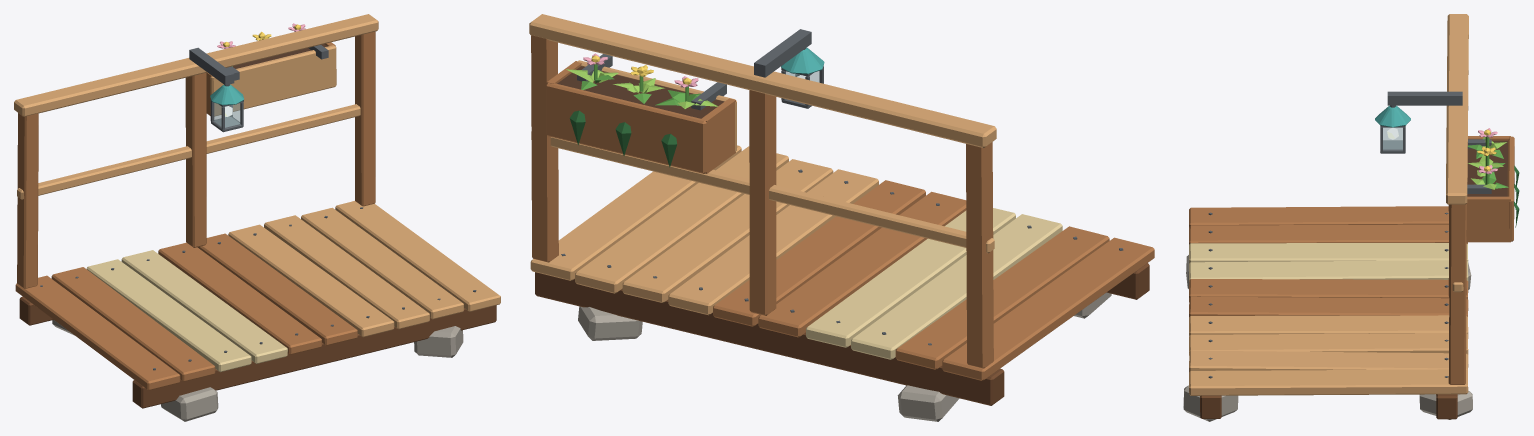
The model's file is walkway_railing.glb.
3 views of the same model, side by side, from view 1: azimuth 30°, elevation 25°; view 2: azimuth 150°, elevation 25°; view 3: azimuth 270°, elevation 25° (orthographic). The views are drawn at different scales.
Visible parts, largest first — view 1: Walkway Railing; view 2: Walkway Railing; view 3: Walkway Railing.
Boxes of the visible parts, x1,y1,x2,y2 form: Walkway Railing: [14, 14, 500, 421]; Walkway Railing: [529, 14, 1154, 421]; Walkway Railing: [1183, 14, 1519, 421].
Bounding box in the file's own units: 2 × 1.32 × 1.57.
3 materials, 1 textured.
